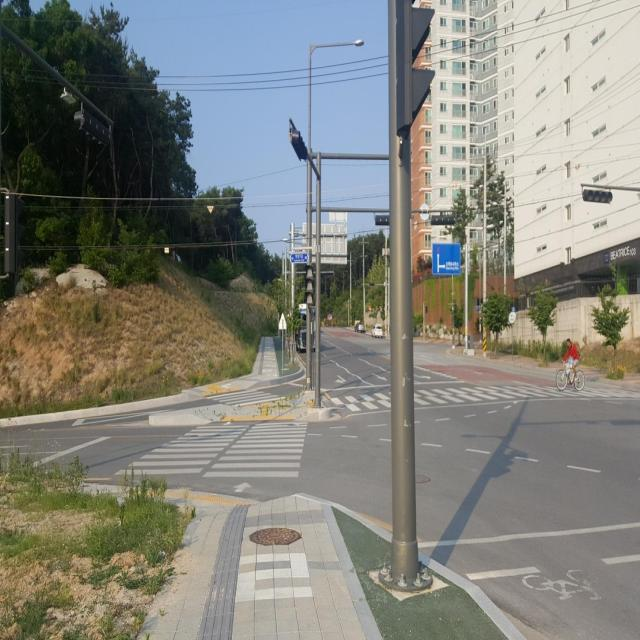빨간불: (293, 323, 304, 358)
횡단보도: (112, 420, 308, 494), (317, 382, 562, 415)
